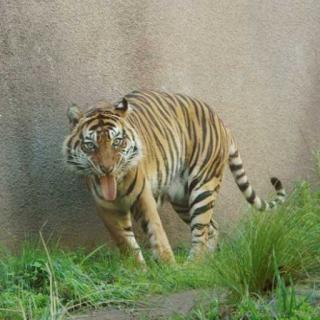Tiger: (61, 55, 266, 274)
